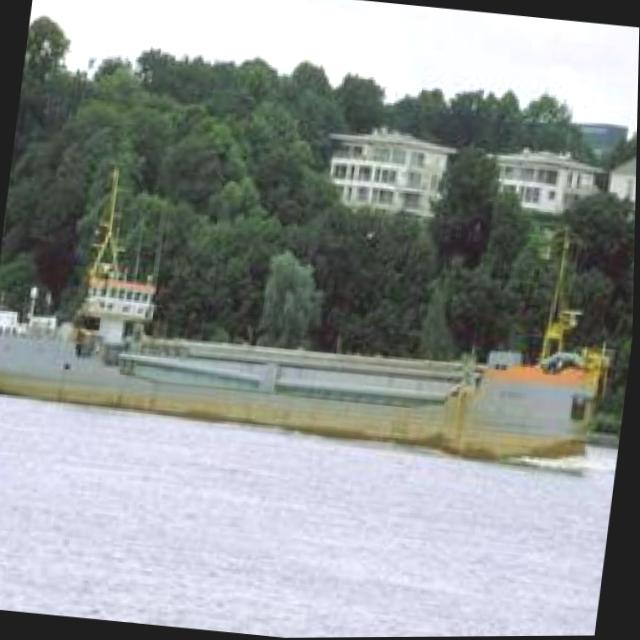ship2: (0, 166, 606, 463)
